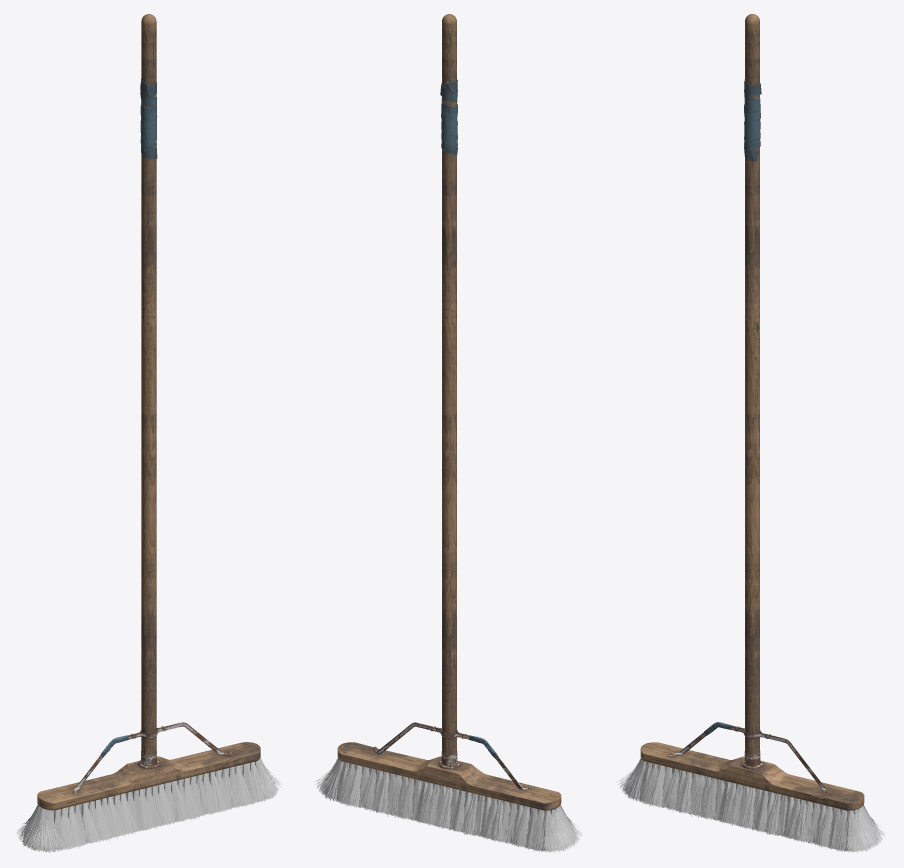
Rendered from wooden_broom_2k.fbx.
3 views of the same model, side by side, from view 1: azimuth 30°, elevation 25°; view 2: azimuth 150°, elevation 25°; view 3: azimuth 330°, elevation 25° (orthographic).
Visible parts, largest first — view 1: wooden_broom_handle, wooden_broom, wooden_broom_bristles; view 2: wooden_broom_handle, wooden_broom, wooden_broom_bristles; view 3: wooden_broom_handle, wooden_broom, wooden_broom_bristles.
Boxes of the visible parts, x1,y1,x2,y2 form: wooden_broom_handle: (140,14,157,765); wooden_broom: (23,722,274,850); wooden_broom_bristles: (17,757,281,852); wooden_broom_handle: (440,14,457,766); wooden_broom: (326,722,576,850); wooden_broom_bristles: (314,758,581,852); wooden_broom_handle: (744,14,761,766); wooden_broom: (625,722,877,850); wooden_broom_bristles: (617,758,884,852).
Bounding box in the file's own units: 49.02 × 145 × 11.25.
